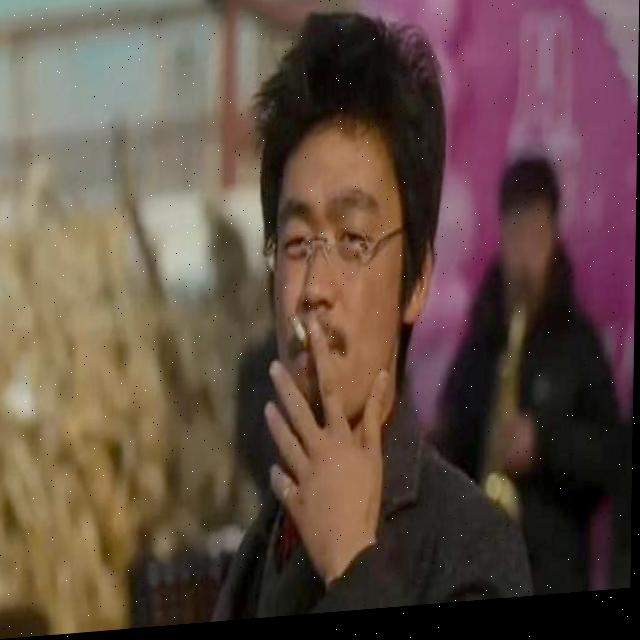cigarette: (286, 316, 314, 357)
